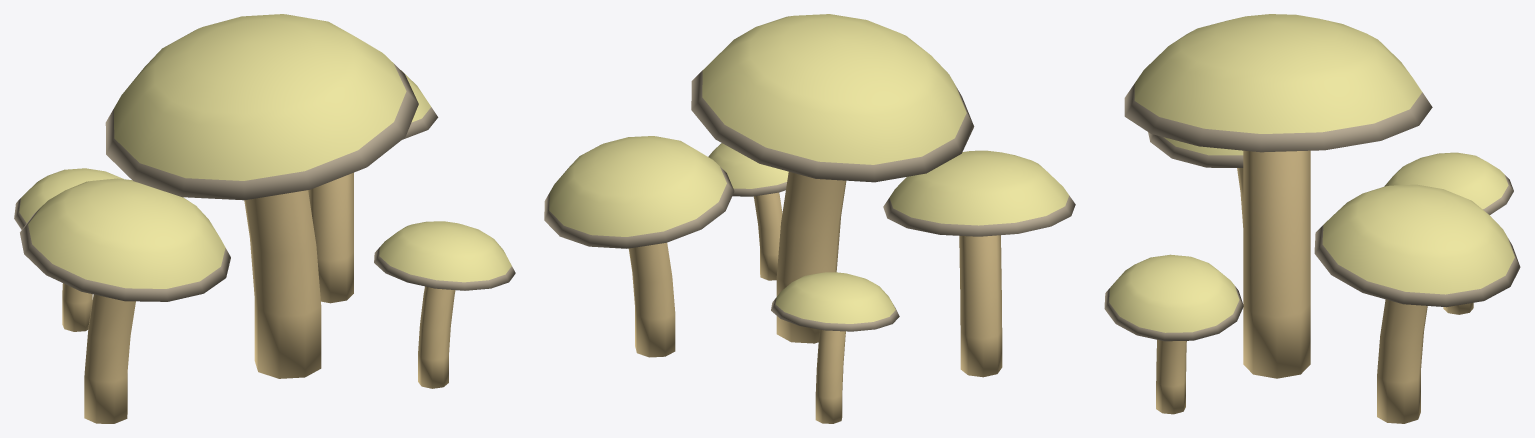
File: PagankasMushroom.fbx
3 views of the same model, side by side, from view 1: azimuth 30°, elevation 25°; view 2: azimuth 150°, elevation 25°; view 3: azimuth 270°, elevation 25° (orthographic). The views are drawn at different scales.
Parts seen in each view (by area): view 1: Cylinder.013; view 2: Cylinder.013; view 3: Cylinder.013.
Part boxes in pixels (left/top/right/bottom): Cylinder.013: left=14, top=14, right=515, bottom=423; Cylinder.013: left=544, top=14, right=1075, bottom=423; Cylinder.013: left=1104, top=14, right=1520, bottom=423.
Size of the model in its own units: 21.27 by 14.19 by 16.55.
